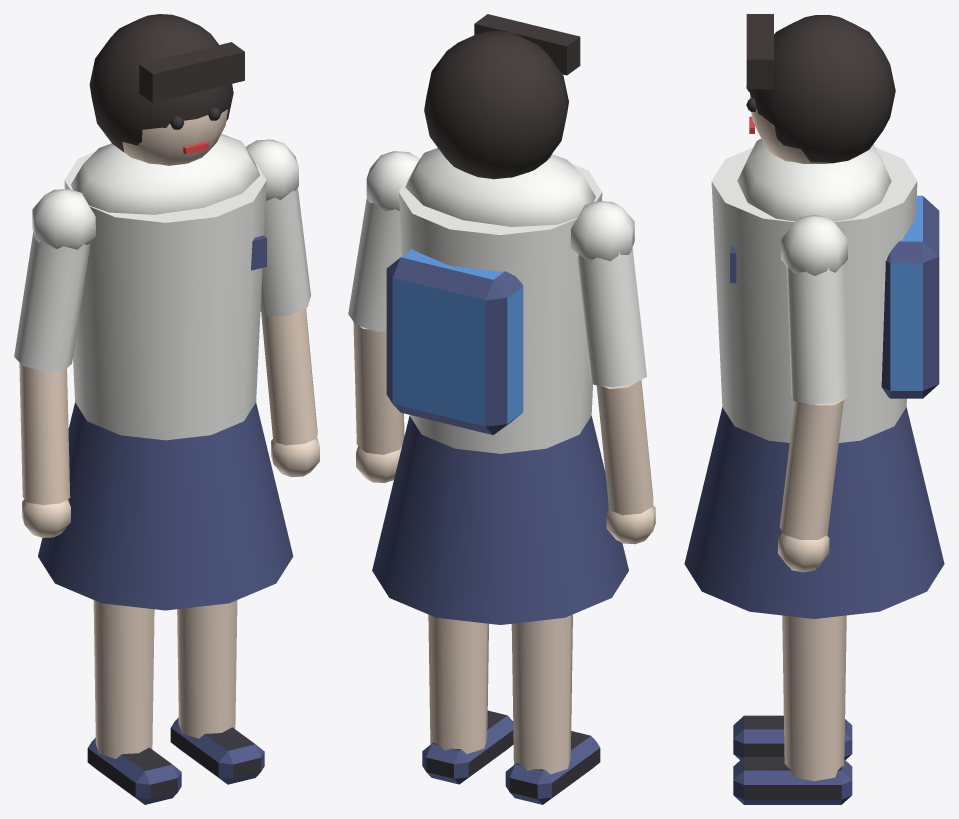
File: SM_NPC_Student.fbx
The picture shows the model from 3 angles, left to right: view 1: azimuth 30°, elevation 25°; view 2: azimuth 150°, elevation 25°; view 3: azimuth 270°, elevation 25°; orthographic projection.
Visible parts, largest first — view 1: SM_NPC_Student; view 2: SM_NPC_Student; view 3: SM_NPC_Student.
Part boxes in pixels (x1,y1,x2,y2): SM_NPC_Student: [14, 14, 319, 804]; SM_NPC_Student: [348, 14, 655, 804]; SM_NPC_Student: [684, 14, 944, 804].
Bounding box in the file's own units: 0.6351 × 1.54 × 0.48.
